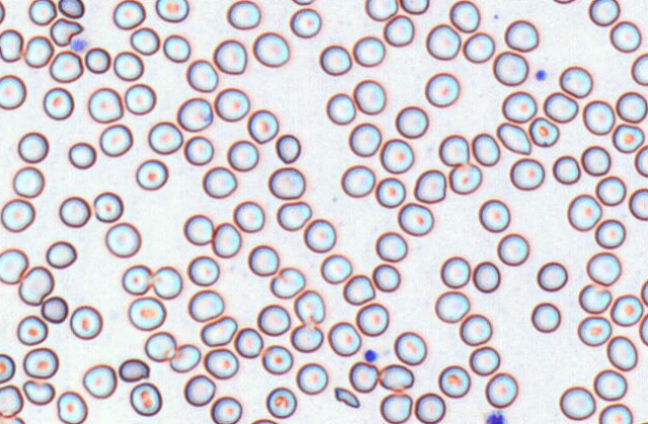PLT: (484, 410, 510, 424), (69, 37, 88, 53), (364, 348, 380, 361), (535, 68, 550, 81)
RBC: (18, 265, 54, 305), (127, 296, 166, 331), (252, 31, 289, 67), (567, 193, 602, 231), (87, 87, 123, 123), (492, 50, 528, 86), (425, 23, 460, 60), (82, 363, 117, 399), (105, 222, 141, 257), (559, 386, 596, 420), (267, 166, 305, 199), (586, 251, 621, 286), (424, 72, 459, 107), (484, 372, 518, 408), (397, 202, 433, 236), (177, 97, 213, 131), (187, 289, 224, 322), (0, 198, 35, 232), (327, 321, 361, 356), (380, 138, 414, 173), (214, 87, 249, 121), (213, 39, 247, 74), (69, 304, 102, 340), (147, 121, 183, 154), (582, 99, 615, 135), (355, 302, 389, 336), (496, 121, 531, 154), (434, 290, 469, 323), (340, 164, 375, 197), (509, 157, 544, 190), (501, 90, 536, 123), (504, 19, 539, 52), (269, 266, 305, 298), (22, 347, 58, 379), (200, 315, 237, 346), (129, 382, 162, 416), (437, 364, 470, 398), (393, 331, 426, 365), (593, 368, 627, 401), (49, 50, 83, 83), (413, 169, 446, 203), (348, 122, 381, 156), (496, 232, 529, 266), (303, 218, 336, 252), (99, 123, 133, 156), (293, 289, 325, 324), (202, 166, 237, 198), (203, 347, 238, 379), (353, 79, 385, 114), (543, 91, 578, 123), (606, 335, 637, 371), (459, 313, 492, 346), (295, 362, 328, 395), (257, 303, 290, 336), (395, 105, 428, 138), (559, 65, 592, 98), (448, 162, 482, 194), (247, 109, 279, 143), (478, 198, 510, 232), (42, 86, 74, 120), (276, 200, 311, 231), (577, 315, 612, 346), (186, 59, 218, 92), (610, 294, 643, 326), (135, 158, 168, 190), (352, 35, 385, 67), (462, 31, 495, 63), (151, 265, 182, 299), (211, 222, 241, 257), (0, 247, 28, 284), (183, 374, 215, 406), (12, 166, 44, 198), (265, 386, 297, 418), (609, 20, 641, 52), (615, 91, 647, 123), (124, 83, 156, 115), (247, 244, 279, 276), (379, 392, 412, 423), (56, 390, 87, 423), (578, 283, 611, 314), (342, 274, 375, 305), (319, 44, 352, 75), (378, 363, 414, 391), (144, 331, 176, 362), (320, 253, 352, 284), (17, 131, 48, 163), (449, 0, 480, 32), (227, 139, 258, 171), (16, 314, 48, 345), (383, 14, 414, 46), (261, 344, 293, 375), (187, 255, 219, 286), (58, 196, 90, 227), (233, 200, 264, 232), (438, 134, 469, 166), (289, 7, 321, 38), (375, 231, 407, 262), (594, 218, 626, 249), (440, 255, 470, 288), (226, 0, 260, 29), (471, 132, 500, 166), (121, 264, 152, 295), (414, 392, 445, 423), (528, 116, 559, 147), (595, 175, 626, 206), (580, 145, 611, 176), (169, 343, 201, 373), (348, 361, 378, 393), (468, 345, 500, 375), (183, 213, 213, 245), (326, 92, 356, 124), (612, 123, 644, 153), (290, 323, 323, 352), (112, 0, 145, 29), (24, 35, 53, 68), (375, 176, 405, 207), (530, 301, 560, 332), (113, 50, 143, 81), (536, 261, 567, 291), (93, 191, 123, 222), (472, 260, 500, 293), (0, 74, 26, 109), (183, 135, 213, 165), (234, 327, 263, 358), (210, 395, 242, 423), (129, 26, 159, 55), (45, 240, 76, 268), (552, 154, 580, 184), (588, 0, 620, 26), (372, 263, 400, 292), (40, 295, 68, 323), (68, 141, 96, 169), (162, 34, 190, 62), (0, 28, 23, 62), (275, 133, 301, 163), (0, 384, 23, 417), (155, 0, 189, 22), (364, 0, 398, 21), (84, 46, 110, 73), (598, 403, 633, 423), (28, 0, 56, 25), (628, 187, 647, 220), (631, 52, 647, 85), (57, 0, 84, 18), (0, 353, 15, 383), (634, 144, 647, 177), (400, 0, 429, 14), (639, 312, 648, 346), (0, 415, 25, 424), (640, 278, 648, 306), (250, 418, 277, 423), (0, 0, 5, 24), (291, 0, 315, 5), (551, 0, 577, 4), (0, 310, 3, 338)
Schistocyte: (48, 18, 84, 45), (22, 379, 55, 406), (118, 357, 151, 382), (333, 386, 361, 408)
